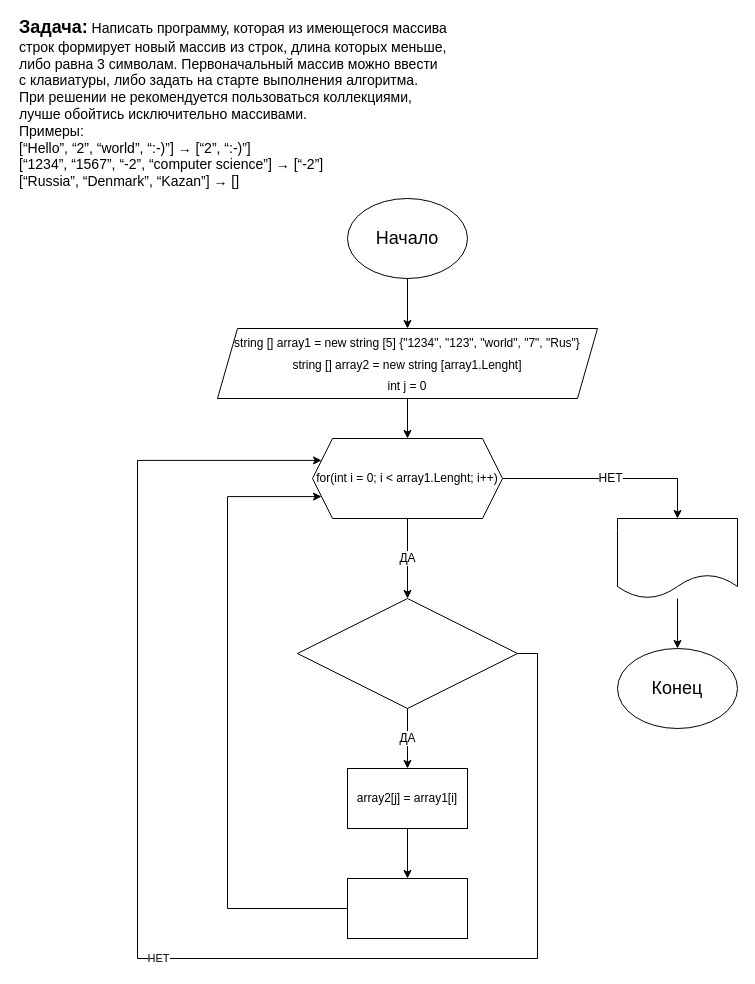
This 755x984 diagram has some shape labels left out. The centre of each missing label's shape, as x and y in pixels:
"if (array1[i].Lenght <= 3)" goes at (x=407, y=653).
"j++" goes at (x=407, y=908).
"Вывод array2" goes at (x=677, y=558).
